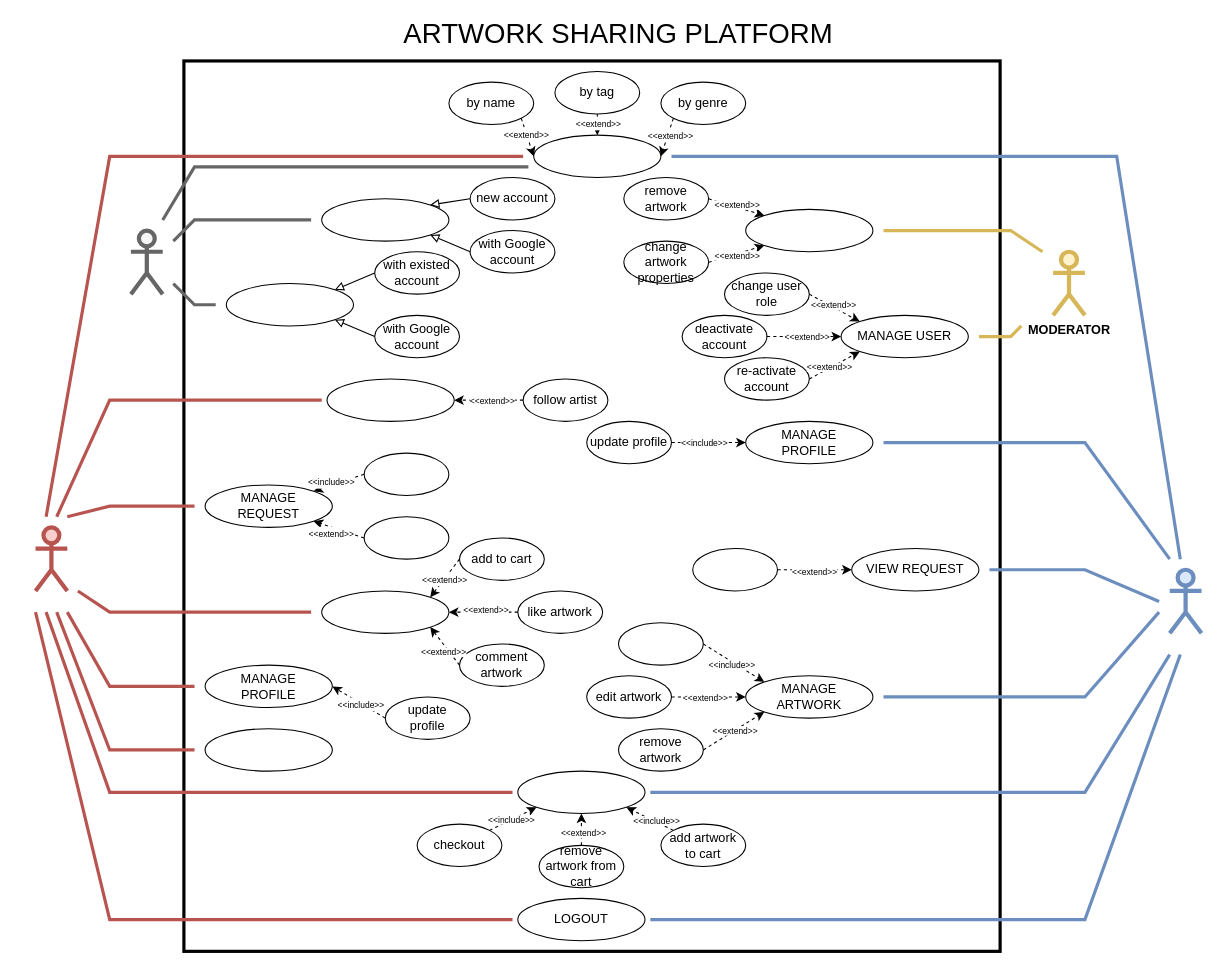
Some shapes in this 1226 by 971 pixel diagram are drawn without their labels. The box of each missing label's shape, as (x1, y1, x2, y2) in pixels:
accept request: (692, 547, 778, 591)
ARTIST: (1167, 567, 1203, 635)
ARTWORK LOOKUP: (533, 134, 661, 178)
AUDIENCE: (33, 525, 69, 593)
BECOME ARTIST REGISTER: (204, 728, 332, 771)
cancel request: (363, 516, 449, 559)
CENSOR ARTWORK: (745, 208, 873, 252)
GUESS: (128, 228, 164, 296)
MANAGE CART: (517, 770, 645, 814)
pull request: (363, 452, 449, 496)
SIGN IN: (225, 282, 354, 326)
SIGN UP: (321, 198, 449, 241)
submit artwork: (617, 622, 703, 665)
VIEW ARTIST: (326, 378, 454, 421)
VIEW ARTWORK: (321, 590, 449, 633)
